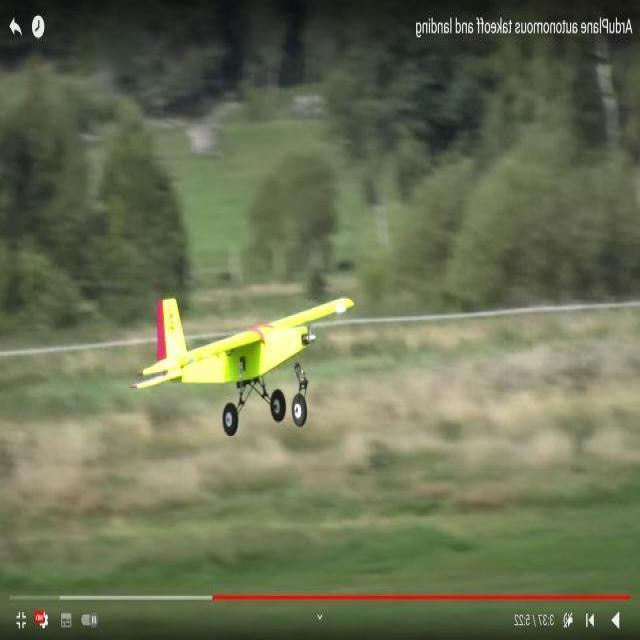iha: (128, 293, 355, 436)
